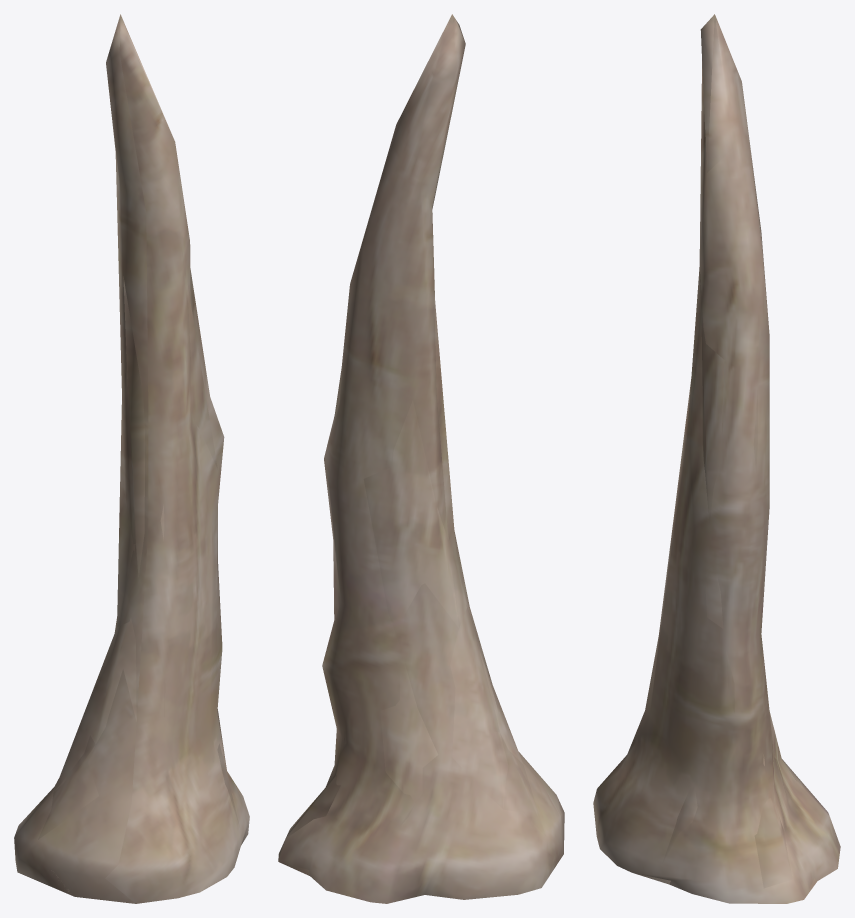
File: Stone_Thorn2.FBX
The picture shows the model from 3 angles, left to right: view 1: azimuth 30°, elevation 25°; view 2: azimuth 150°, elevation 25°; view 3: azimuth 270°, elevation 25°; orthographic projection. The views are drawn at different scales.
Parts seen in each view (by area): view 1: Stone_Thorn2, Stone_Thorn2_Lod; view 2: Stone_Thorn2, Stone_Thorn2_Lod; view 3: Stone_Thorn2, Stone_Thorn2_Lod.
Boxes of the visible parts, x1=… form: Stone_Thorn2: x1=14, y1=14, x2=249, y2=903; Stone_Thorn2_Lod: x1=38, y1=18, x2=240, y2=894; Stone_Thorn2: x1=278, y1=14, x2=564, y2=903; Stone_Thorn2_Lod: x1=279, y1=289, x2=546, y2=875; Stone_Thorn2: x1=593, y1=14, x2=840, y2=903; Stone_Thorn2_Lod: x1=633, y1=14, x2=816, y2=897.
Size of the model in its own units: 0.2394 by 0.8812 by 0.2552.
